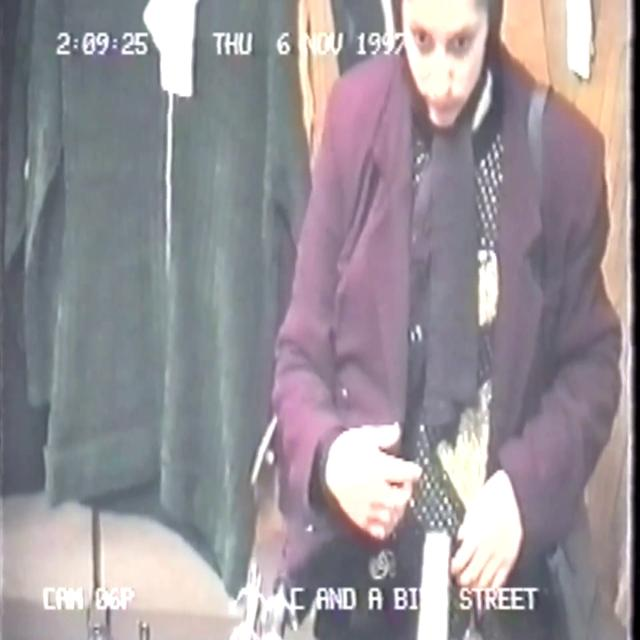normal: (206, 4, 630, 640)
